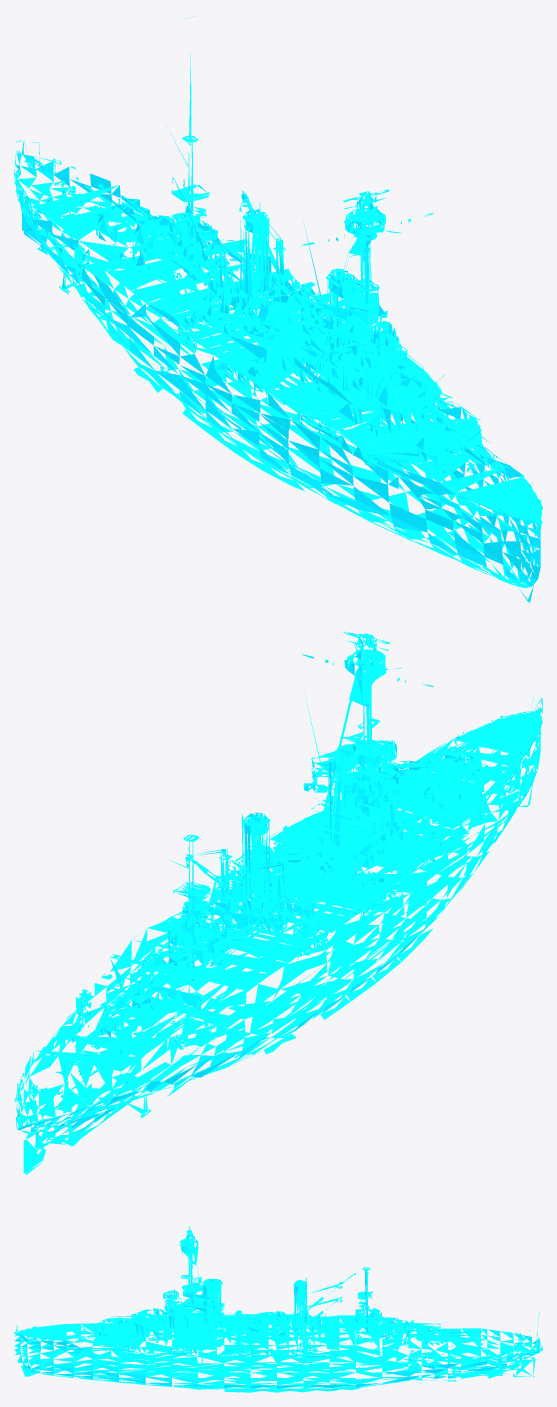
File: PFSB105.glb
3 views of the same model, one above another, from view 1: azimuth 30°, elevation 25°; view 2: azimuth 150°, elevation 25°; view 3: azimuth 270°, elevation 25° (orthographic). The views are drawn at different scales.
Parts seen in each view (by area): view 1: hull_mid, hull_bow, hull_stern, main_battery, secondary_battery, hull_body; view 2: hull_mid, hull_stern, hull_bow, main_battery, secondary_battery, hull_body; view 3: hull_mid, hull_stern, hull_bow, main_battery, secondary_battery, hull_body.
Boxes of the visible parts, x1,y1,x2,y2 form: hull_mid: [128, 16, 474, 522]; hull_bow: [353, 414, 542, 602]; hull_stern: [14, 140, 271, 370]; main_battery: [79, 185, 492, 471]; secondary_battery: [64, 231, 491, 471]; hull_body: [171, 189, 398, 351]; hull_mid: [130, 649, 475, 1057]; hull_stern: [14, 940, 273, 1174]; hull_bow: [364, 697, 542, 899]; main_battery: [74, 731, 491, 1046]; secondary_battery: [66, 791, 491, 1052]; hull_body: [172, 631, 400, 941]; hull_mid: [129, 1238, 381, 1392]; hull_stern: [356, 1311, 542, 1387]; hull_bow: [14, 1318, 145, 1384]; main_battery: [66, 1308, 477, 1341]; secondary_battery: [104, 1310, 443, 1359]; hull_body: [167, 1226, 379, 1317].
Bounding box in the file's own units: 1.97 × 3.94 × 11.07.
